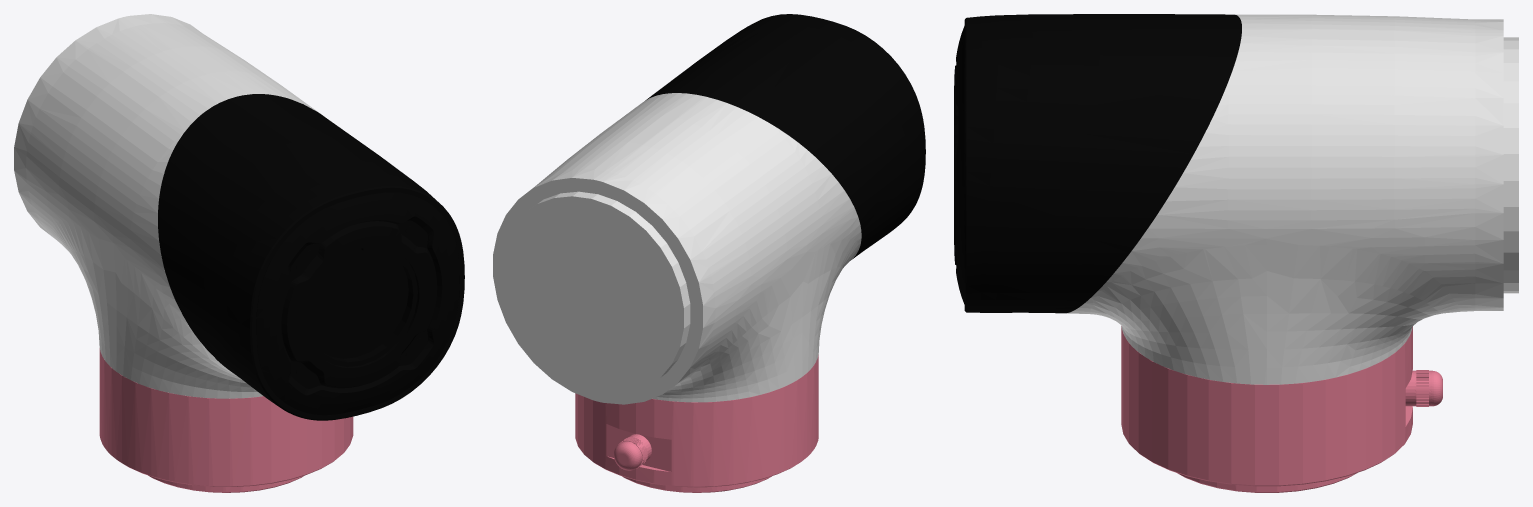
Rendered from testLink.dae.
3 views of the same model, side by side, from view 1: azimuth 30°, elevation 25°; view 2: azimuth 150°, elevation 25°; view 3: azimuth 270°, elevation 25° (orthographic). The views are drawn at different scales.
Parts seen in each view (by area): view 1: Link5.003, Link5.001, Link6; view 2: Link5.001, Link5.003, Link6; view 3: Link5.001, Link5.003, Link6.
Boxes of the visible parts, x1,y1,x2,y2 form: Link5.003: (158,94,464,420); Link5.001: (14,14,321,398); Link6: (99,348,353,492); Link5.001: (493,93,861,404); Link5.003: (645,14,925,259); Link6: (575,354,818,492); Link5.001: (1067,14,1518,384); Link5.003: (954,14,1241,313); Link6: (1121,326,1442,492).
Bounding box in the file's own units: 0.0848 × 0.1588 × 0.1296.
